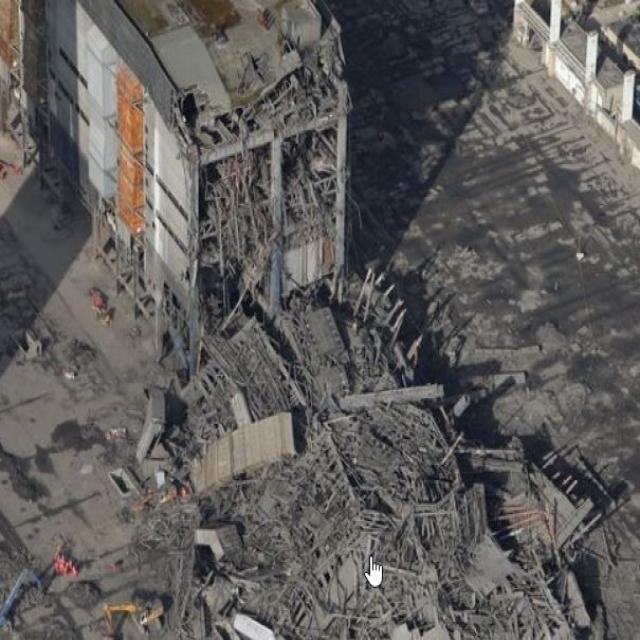collapsed_building: (192, 92, 348, 581)
